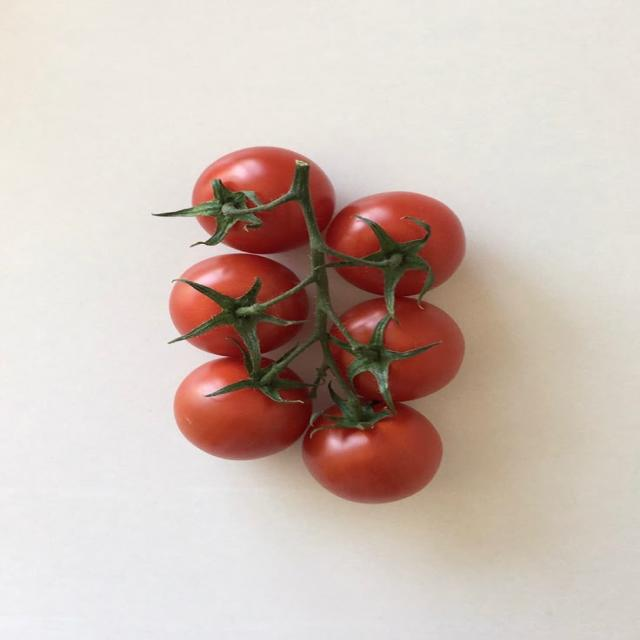tomato: (174, 358, 311, 459), (303, 404, 442, 502), (327, 192, 465, 287), (193, 147, 334, 230), (384, 298, 464, 401), (181, 254, 299, 302)
